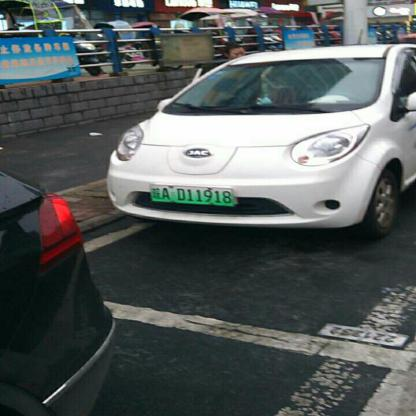lp: (149, 186, 232, 205)
